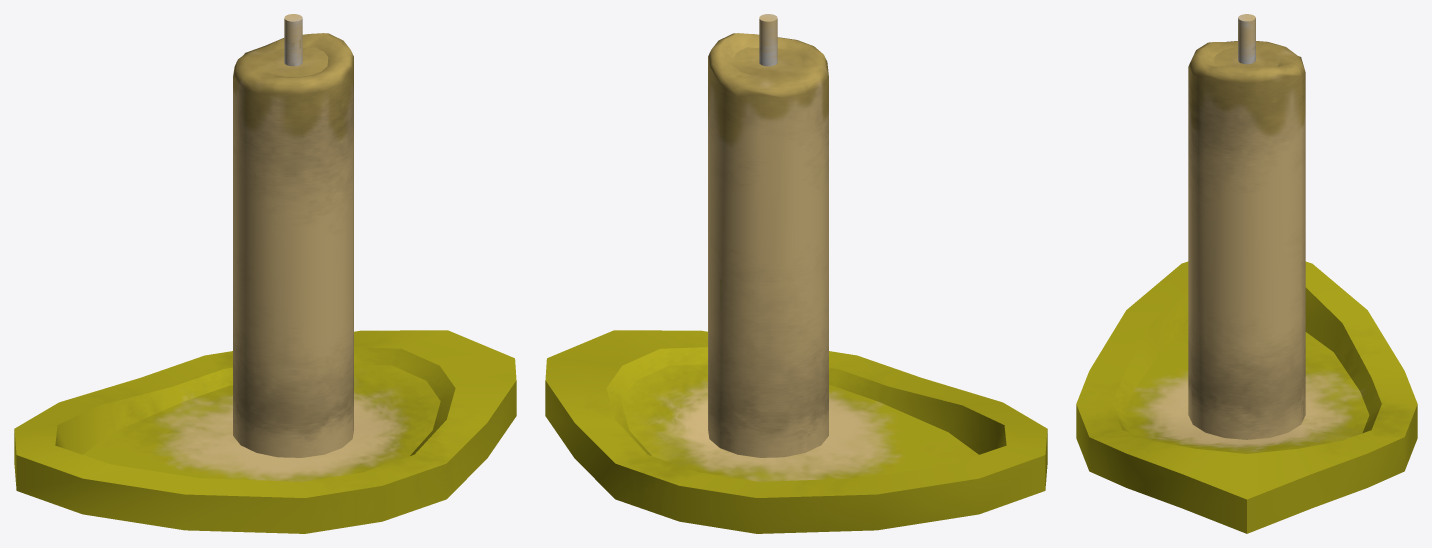
Rendered from candle.fbx.
3 renders of one model, left to right at view 1: azimuth 30°, elevation 25°; view 2: azimuth 150°, elevation 25°; view 3: azimuth 270°, elevation 25°, orthographic. The views are drawn at different scales.
Visible parts, largest first — view 1: CandleStick:CandleStick_01; view 2: CandleStick:CandleStick_01; view 3: CandleStick:CandleStick_01.
Boxes of the visible parts, box(x1,y1,x2,y2) form: CandleStick:CandleStick_01: box(14, 14, 516, 533); CandleStick:CandleStick_01: box(545, 14, 1047, 533); CandleStick:CandleStick_01: box(1076, 14, 1417, 533).
Bounding box in the file's own units: 2.69 × 2.4 × 1.67.
Materials: 1 (1 with a texture image).
